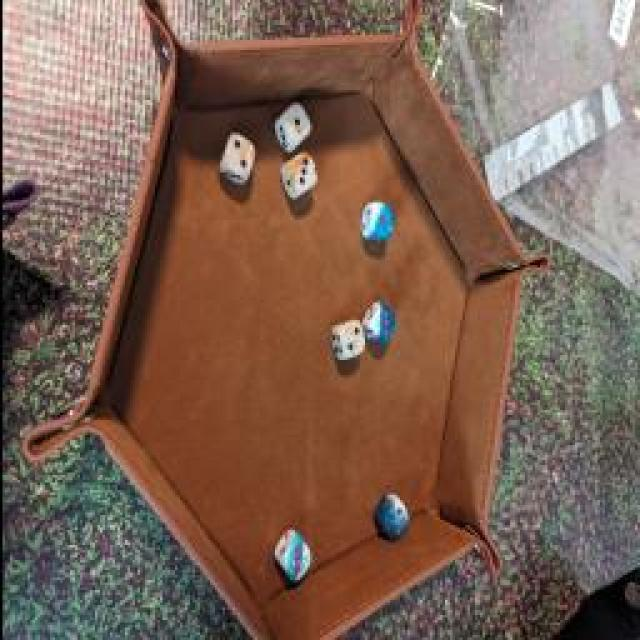dice_1: (355, 194, 395, 244), (272, 102, 310, 146)
dice_2: (212, 129, 258, 189), (325, 311, 365, 361)
dice_3: (270, 530, 312, 580), (358, 298, 398, 348), (278, 151, 318, 201)
dice_4: (372, 492, 412, 536)
